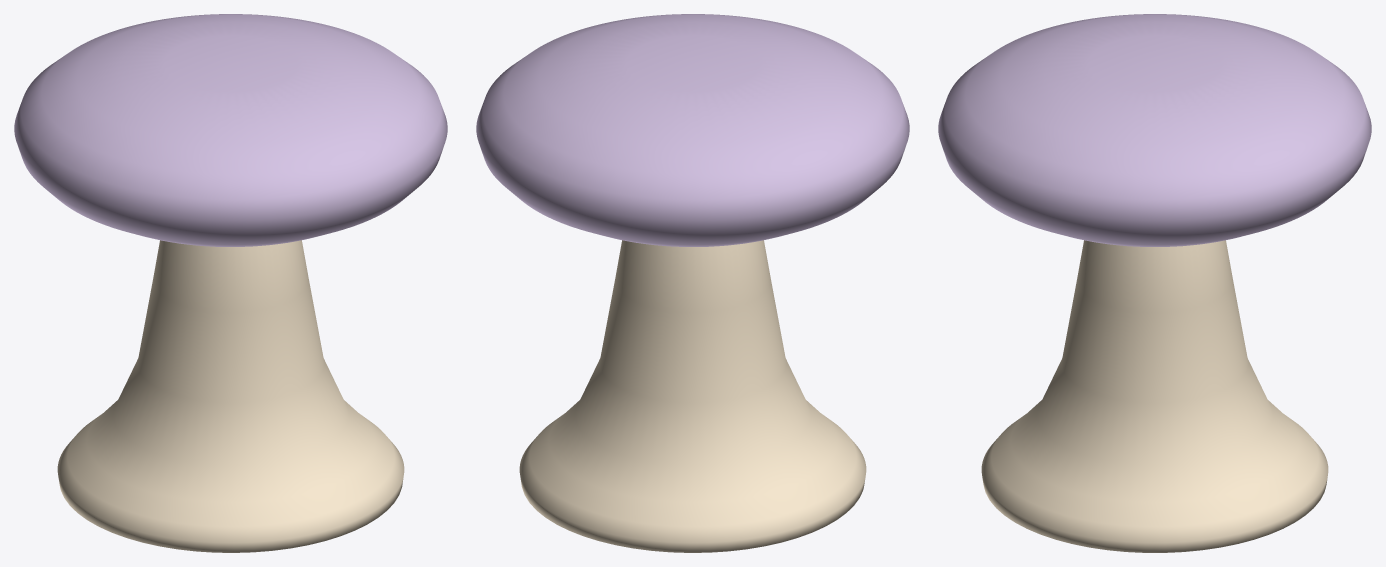
The model's file is stool_c.glb.
3 views of the same model, side by side, from view 1: azimuth 30°, elevation 25°; view 2: azimuth 150°, elevation 25°; view 3: azimuth 270°, elevation 25° (orthographic).
Parts seen in each view (by area): view 1: body; view 2: body; view 3: body.
Boxes of the visible parts, x1,y1,x2,y2 form: body: [14, 14, 447, 552]; body: [476, 14, 909, 552]; body: [938, 14, 1371, 552].
Bounding box in the file's own units: 0.4324 × 0.4746 × 0.4324.
